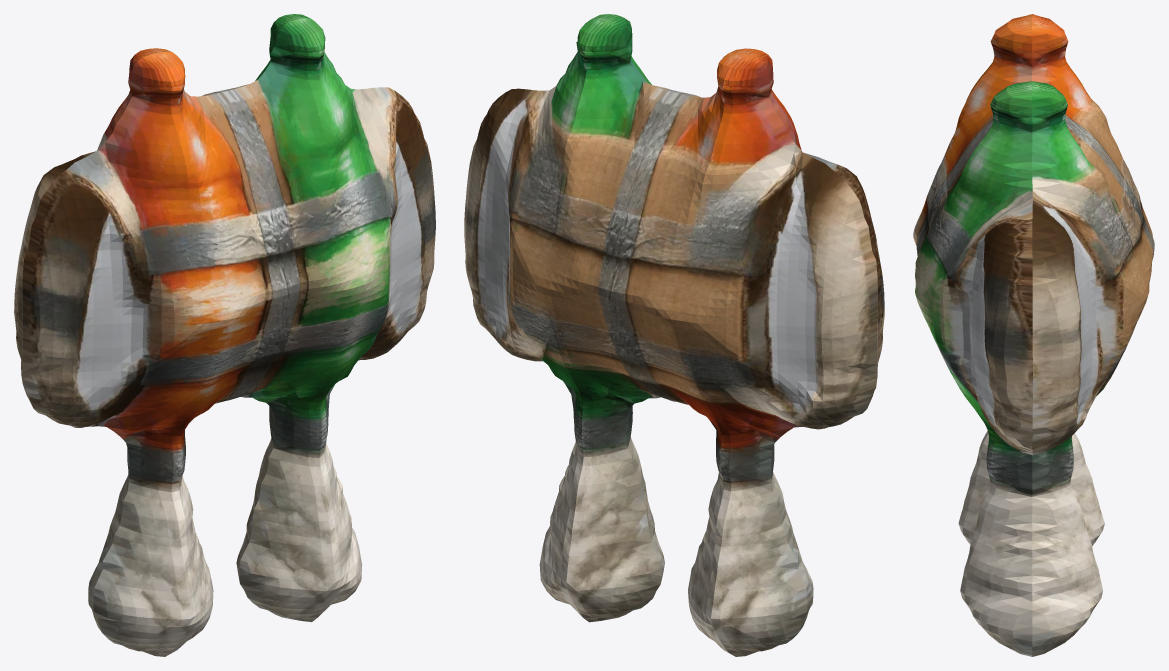
Rendered from soda_jetpack.glb.
3 views of the same model, side by side, from view 1: azimuth 30°, elevation 25°; view 2: azimuth 150°, elevation 25°; view 3: azimuth 270°, elevation 25° (orthographic). The views are drawn at different scales.
Parts seen in each view (by area): view 1: geometry_0; view 2: geometry_0; view 3: geometry_0.
Part boxes in pixels (x1=…): geometry_0: x1=14, y1=14, x2=435, y2=656; geometry_0: x1=464, y1=14, x2=884, y2=656; geometry_0: x1=913, y1=14, x2=1154, y2=656.
Bounding box in the file's own units: 0.6924 × 0.9788 × 0.3794.
1 material, 1 textured.
